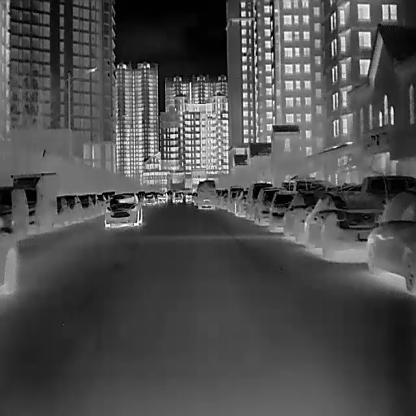car: (365, 188, 415, 293), (303, 193, 383, 258), (7, 171, 56, 234), (282, 192, 328, 241), (0, 185, 28, 240), (103, 192, 142, 227), (254, 187, 288, 226), (270, 191, 300, 232), (246, 184, 272, 218), (64, 194, 82, 223), (198, 179, 214, 211), (56, 195, 70, 223), (235, 190, 250, 215), (86, 193, 101, 214), (81, 195, 94, 219)
